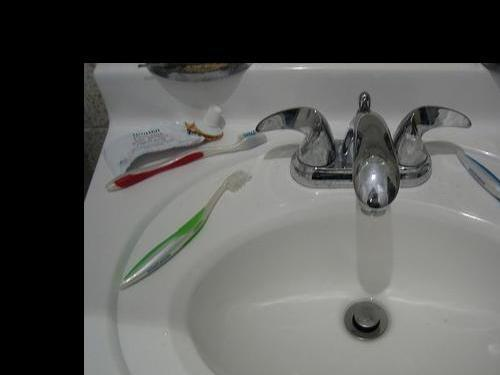Lavamanos: (107, 85, 500, 375)
